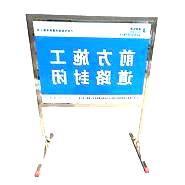sign: (33, 23, 143, 101)
